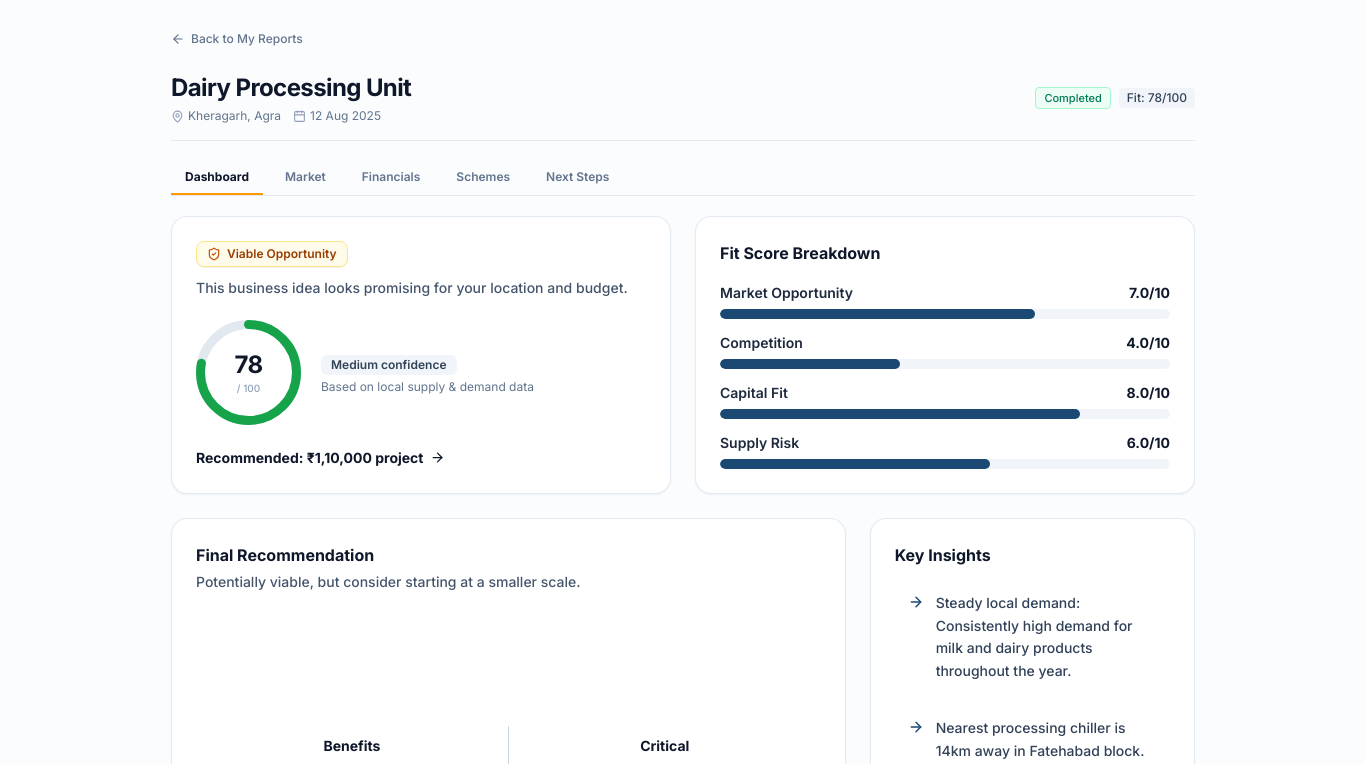
Test: ReportScreen (Feasibility Dashboard) › switches to Schemes tab and displays matched concessional schemes
Step 1. Click the button "Schemes" → {"x": 483, "y": 178}, box top-left (442, 161), bottom-right (524, 195)
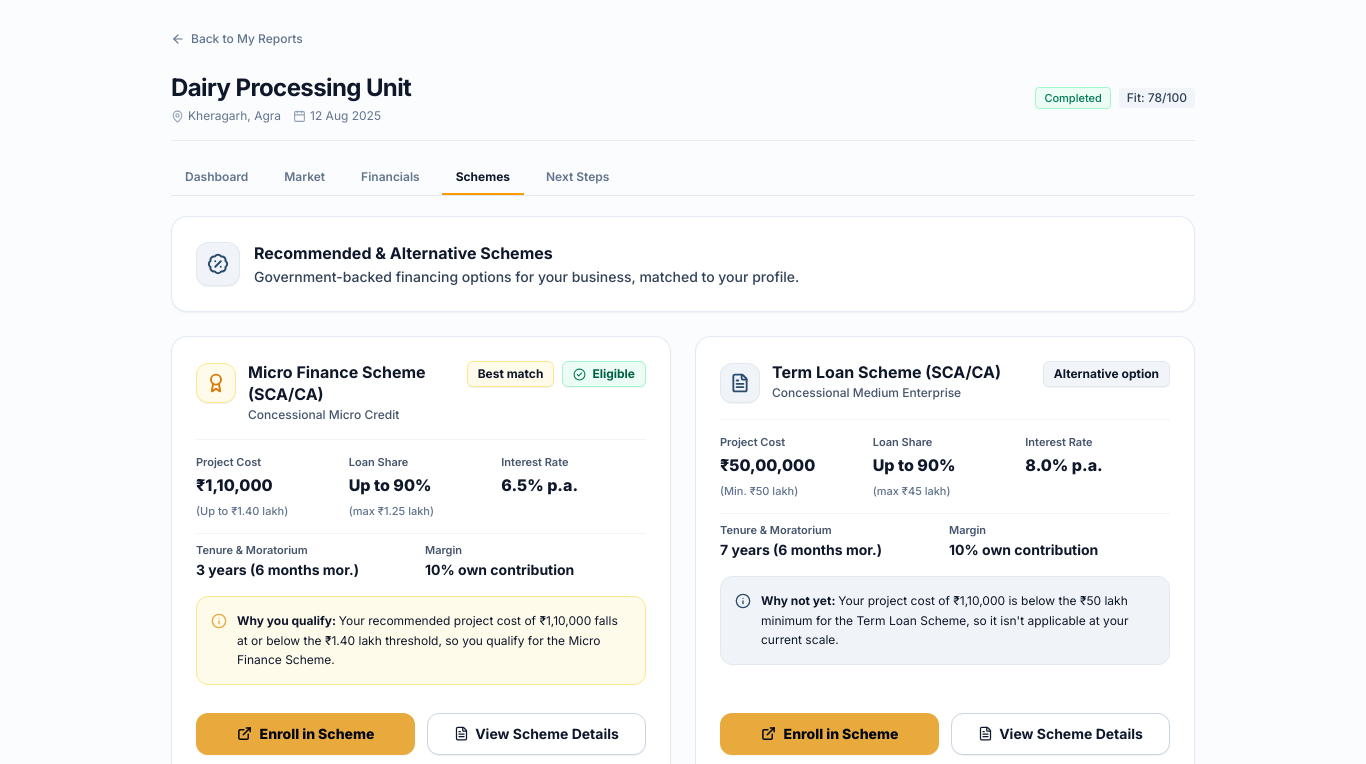
Now the heading "Micro Finance Scheme (SCA/CA)" is shown, box top-left (248, 361), bottom-right (457, 405)
Now the heading "Term Loan Scheme (SCA/CA)" is shown, box top-left (772, 361), bottom-right (1001, 383)
